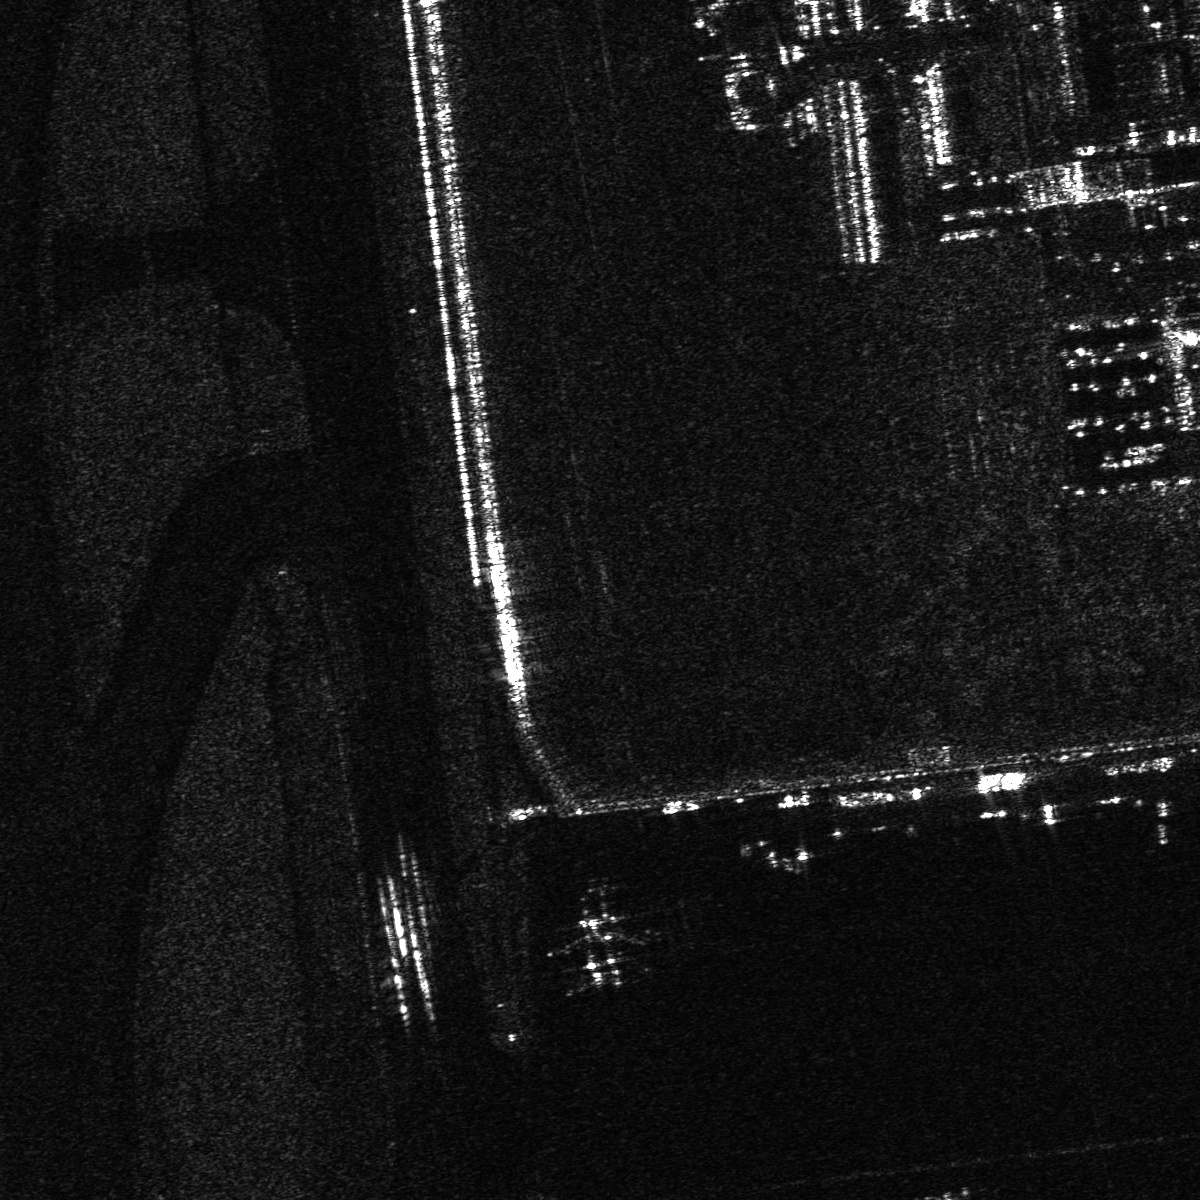A220: (545, 911, 645, 990)
